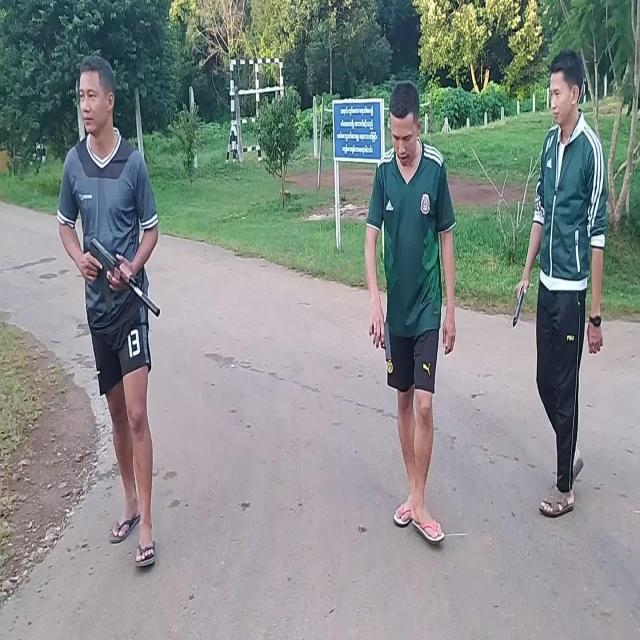gun: (90, 237, 160, 317), (372, 324, 392, 363)
